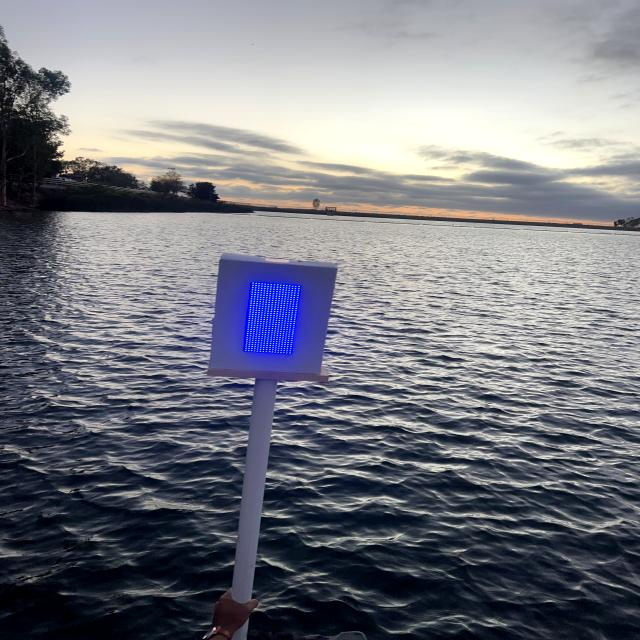led: (225, 265, 324, 367)
